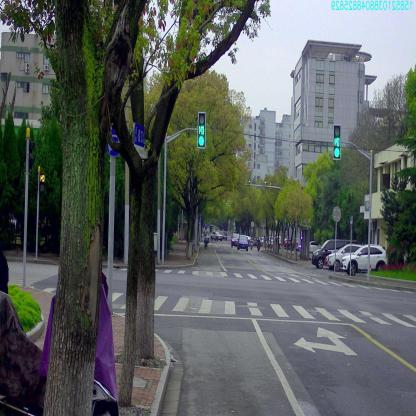traffic-light: (333, 125, 341, 159), (198, 113, 206, 147)
